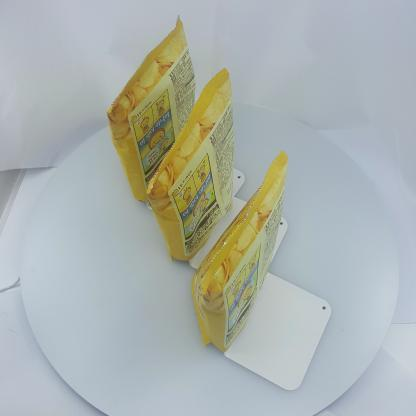Plastic Packaging: (144, 68, 235, 258), (108, 17, 193, 200)
